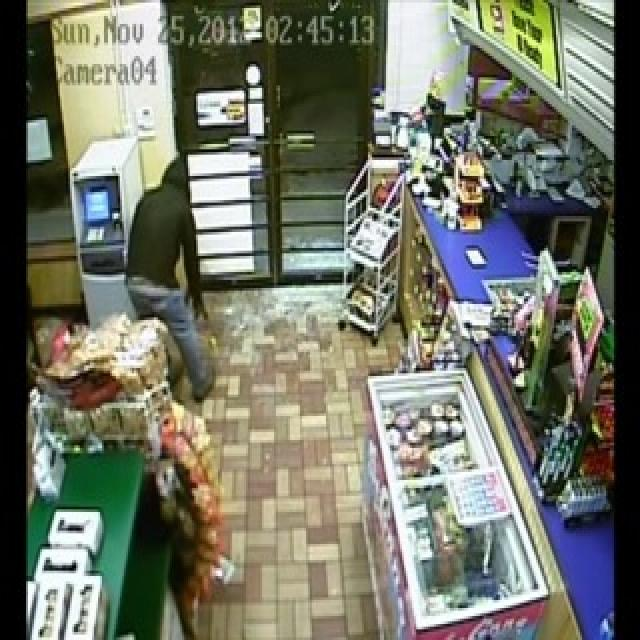thief: (125, 150, 202, 328)
